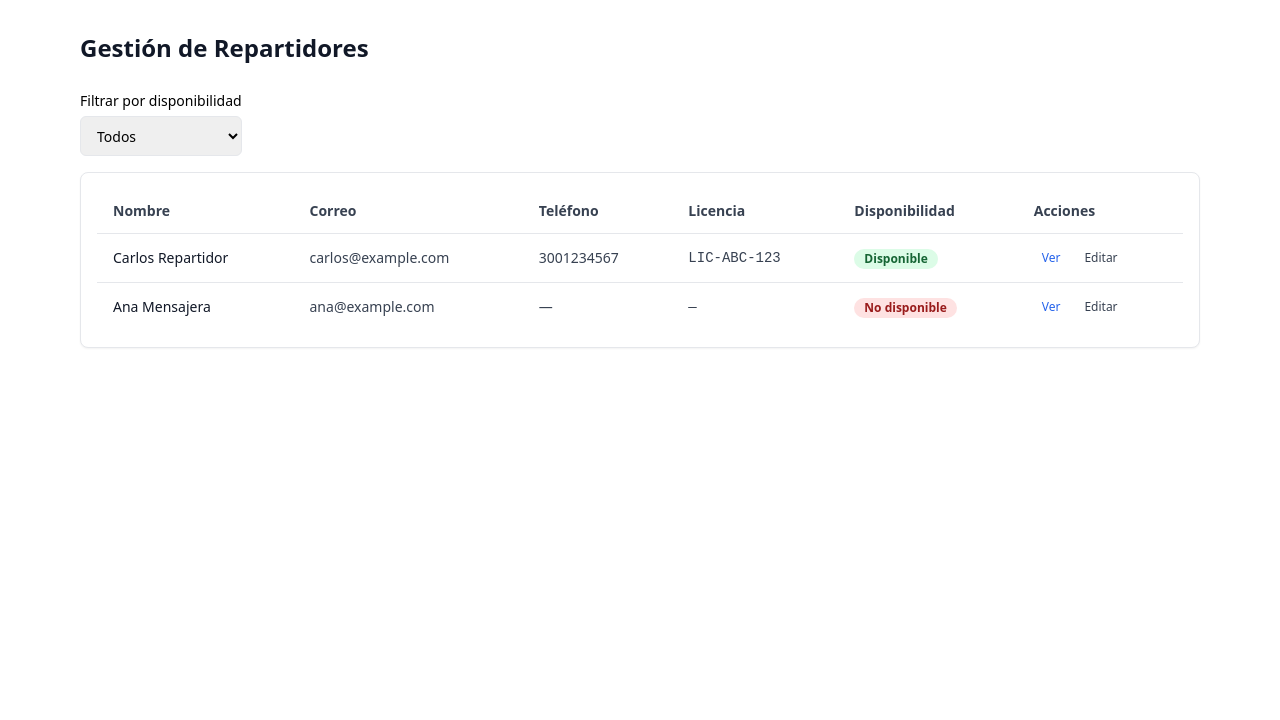
Test: R20 — al hacer clic en "Editar" se muestra el formulario pre-llenado › abre el formulario de edición con los valores actuales del repartidor
Click the button with aria-label "editar Carlos Repartidor". click: [1101, 258]
box: left=1076, top=246, right=1126, bottom=270
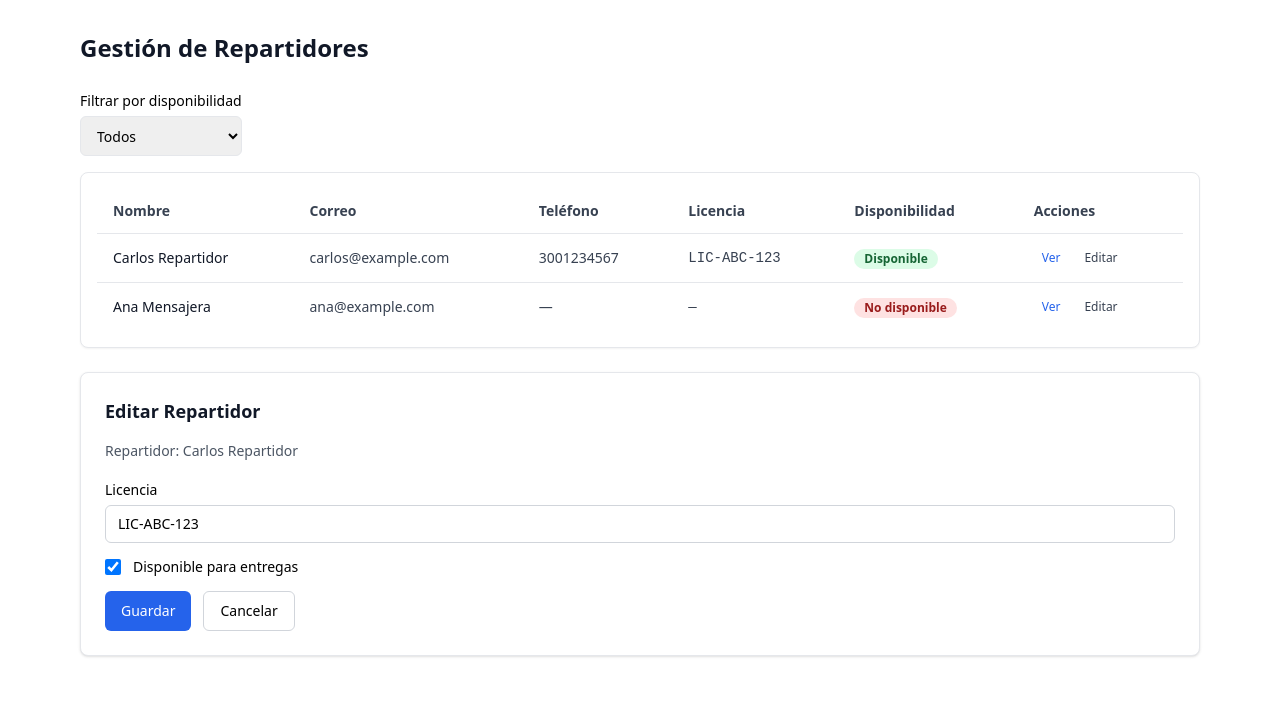
Now the dialog named "editar Carlos Repartidor" is shown, box left=80, top=372, right=1200, bottom=656
Now the field named "licencia de conducción" holds "LIC-ABC-123", box left=105, top=505, right=1175, bottom=543
Now the checkbox labelled "Disponible para entregas" is checked, box left=105, top=559, right=121, bottom=575
